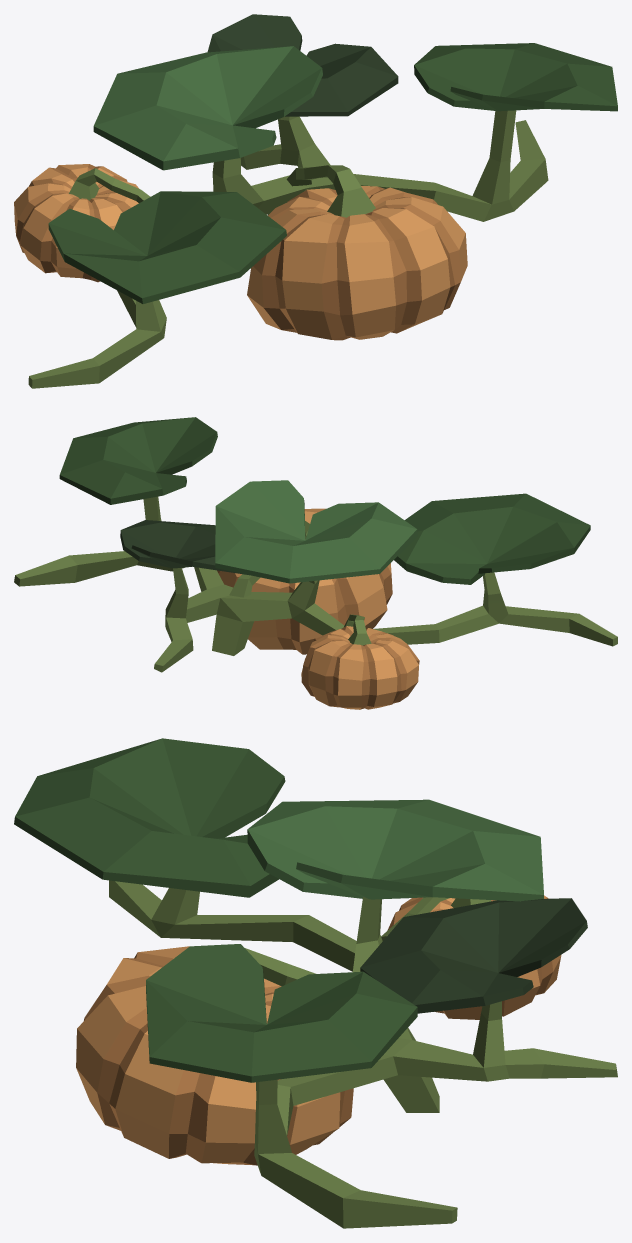
File: pumpkinPatch.glb
The picture shows the model from 3 angles, top to bottom: view 1: azimuth 30°, elevation 25°; view 2: azimuth 150°, elevation 25°; view 3: azimuth 270°, elevation 25°; orthographic projection. The views are drawn at different scales.
Visible parts, largest first — view 1: SM_Env_Plant_Pumpkin_01; view 2: SM_Env_Plant_Pumpkin_01; view 3: SM_Env_Plant_Pumpkin_01.
Boxes of the visible parts, bbox=[...] form: SM_Env_Plant_Pumpkin_01: bbox=[14, 14, 617, 388]; SM_Env_Plant_Pumpkin_01: bbox=[14, 417, 617, 709]; SM_Env_Plant_Pumpkin_01: bbox=[14, 738, 617, 1228].
Bounding box in the file's own units: 1.39 × 0.4632 × 0.9119.
1 material, 1 textured.
